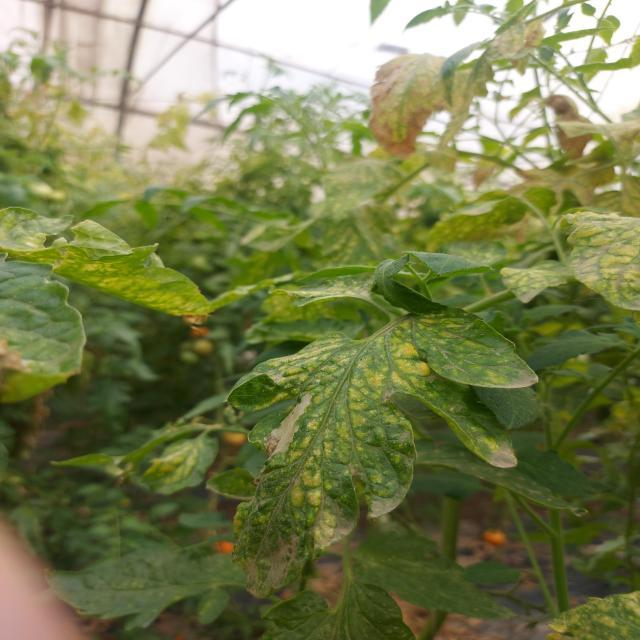Tuta absoluta: (259, 386, 322, 464)
